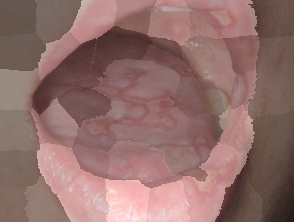SJS-TEN: (13, 0, 294, 222)
